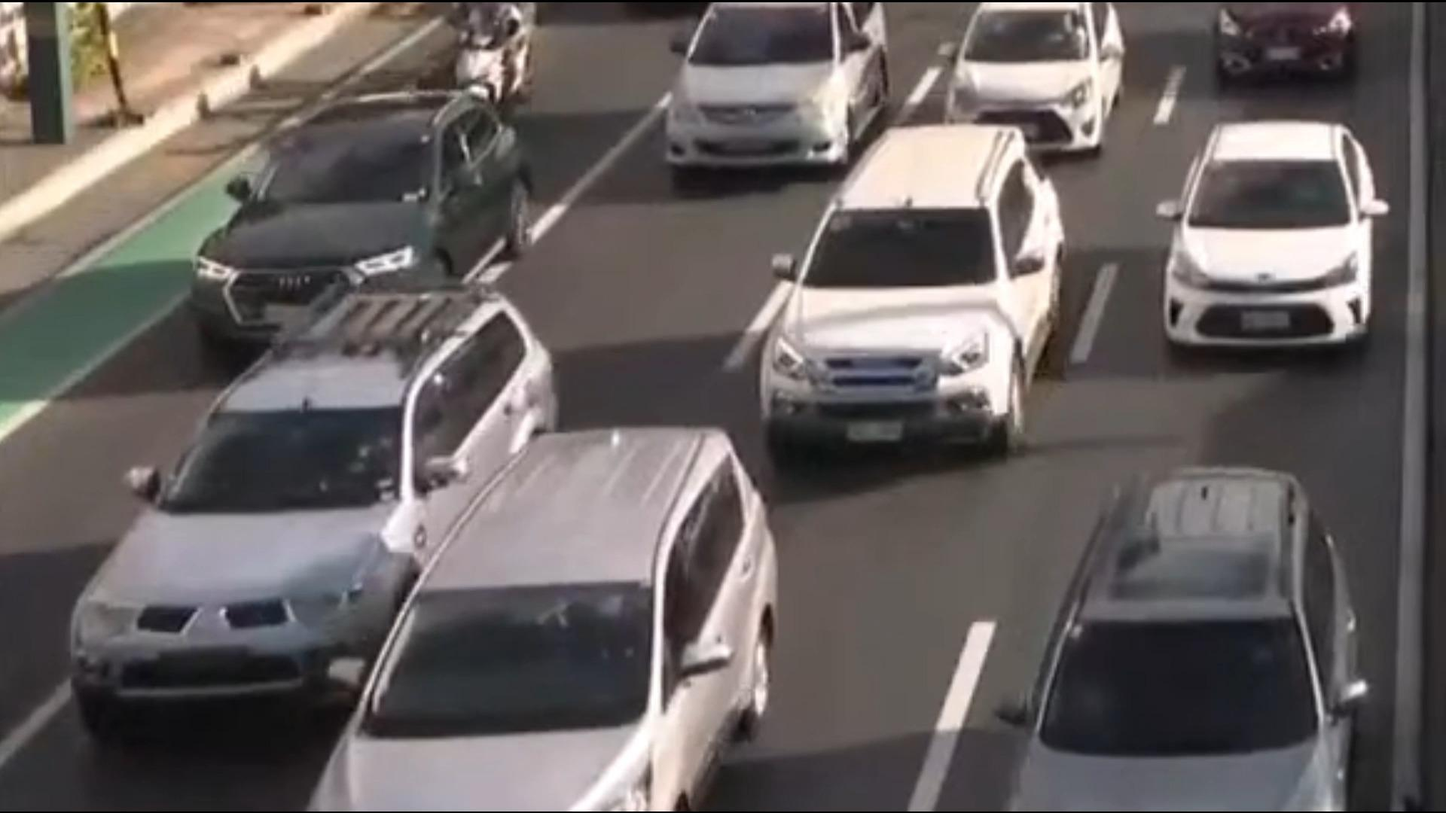Motorcycle: (445, 0, 541, 119)
SUV: (19, 277, 545, 749), (304, 409, 831, 813), (981, 469, 1422, 813), (753, 102, 1091, 474), (132, 85, 552, 369), (609, 0, 925, 211)
Sedan: (1126, 98, 1420, 370), (942, 0, 1165, 153)
